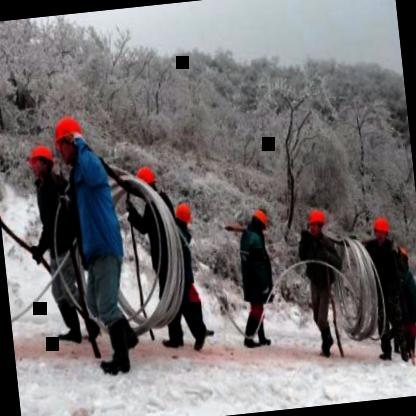helmet: (50, 110, 86, 162), (26, 141, 57, 183), (130, 161, 160, 204), (306, 208, 328, 240), (247, 209, 270, 238), (172, 200, 193, 231), (371, 210, 390, 244)
